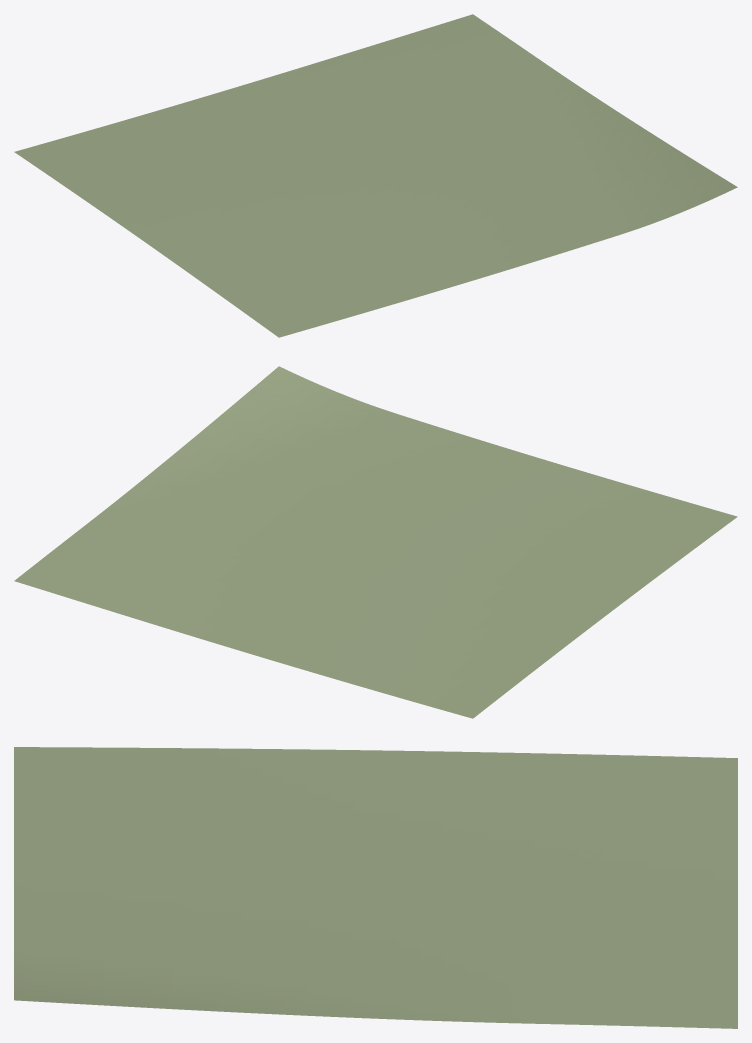
Rendered from expanse-11-4.glb.
3 renders of one model, top to bottom at view 1: azimuth 30°, elevation 25°; view 2: azimuth 150°, elevation 25°; view 3: azimuth 270°, elevation 25°, orthographic. The views are drawn at different scales.
Visible parts, largest first — view 1: expanse-11-4; view 2: expanse-11-4; view 3: expanse-11-4.
Boxes of the visible parts, x1,y1,x2,y2 form: expanse-11-4: (14,14,737,337); expanse-11-4: (14,366,737,718); expanse-11-4: (14,747,737,1028).
Bounding box in the file's own units: 256 × 24.86 × 256.
